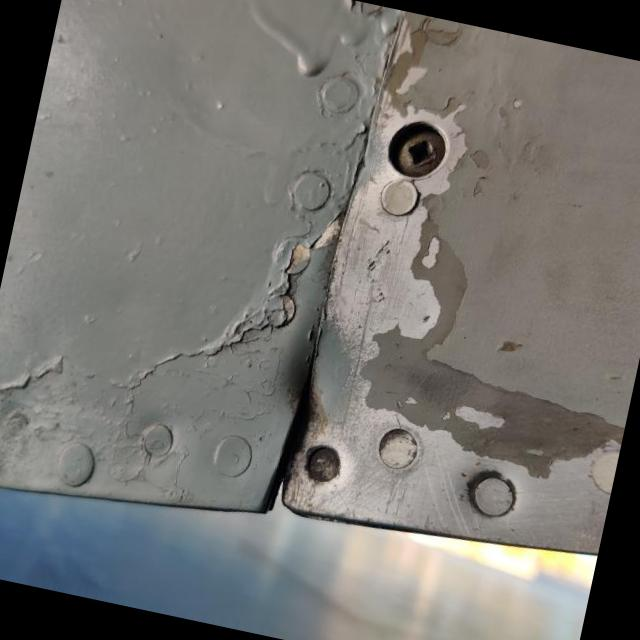Paint-off: (326, 93, 468, 359)
